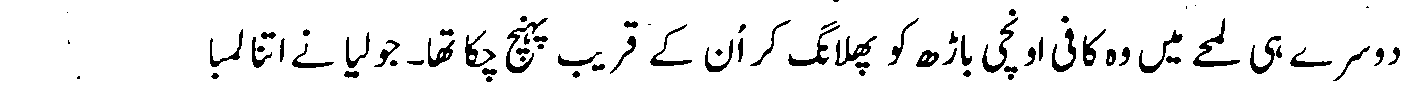bay_shosha: (958, 52, 973, 77)
